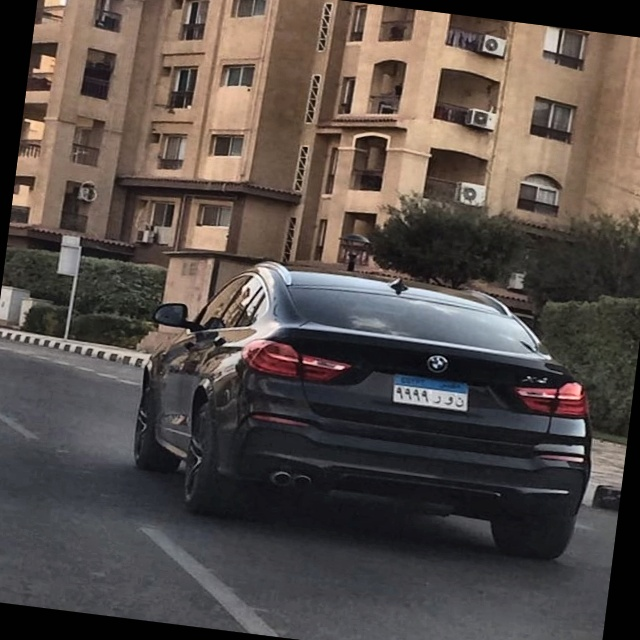License Plate: (388, 372, 473, 414)
